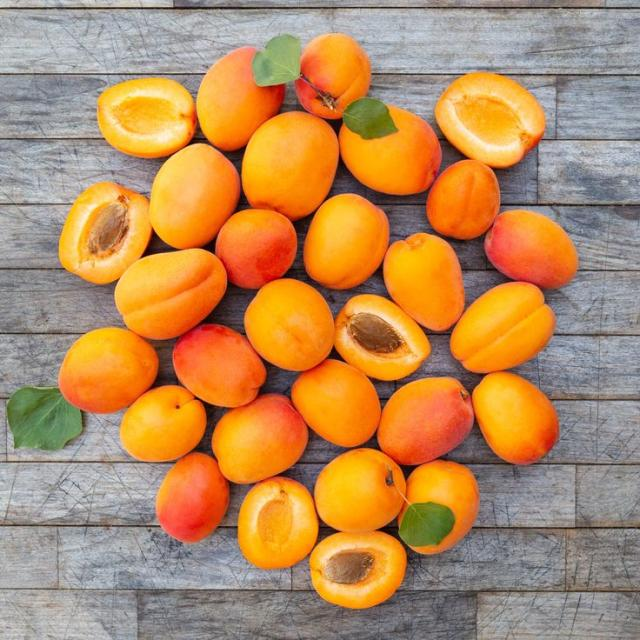kayisi: (149, 143, 298, 290), (239, 110, 343, 223), (434, 72, 547, 171), (115, 248, 229, 339), (209, 392, 313, 489), (450, 282, 555, 377), (57, 182, 152, 285), (302, 192, 392, 294), (58, 327, 160, 416), (340, 105, 442, 194), (197, 47, 284, 149), (382, 233, 467, 333), (96, 77, 197, 161), (377, 377, 475, 463), (243, 278, 336, 368), (471, 373, 558, 468), (291, 358, 383, 447), (337, 293, 431, 380), (314, 449, 409, 533), (308, 533, 408, 612), (483, 209, 579, 291), (172, 324, 266, 406), (119, 384, 209, 465), (238, 477, 317, 569), (403, 459, 477, 556), (293, 34, 373, 118), (157, 454, 230, 543), (426, 160, 501, 242)
kayisicekirdegi: (351, 313, 400, 353), (322, 551, 373, 586), (91, 202, 127, 250)
kayisiyapragi: (6, 386, 84, 453), (251, 35, 302, 86), (400, 503, 452, 546), (343, 97, 395, 138)
